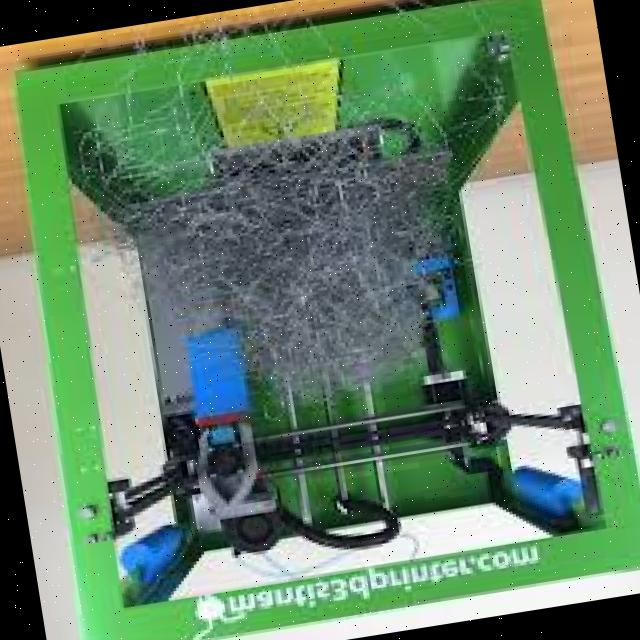spaghetti: (130, 63, 503, 436)
